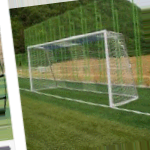goals: (25, 27, 140, 107)
